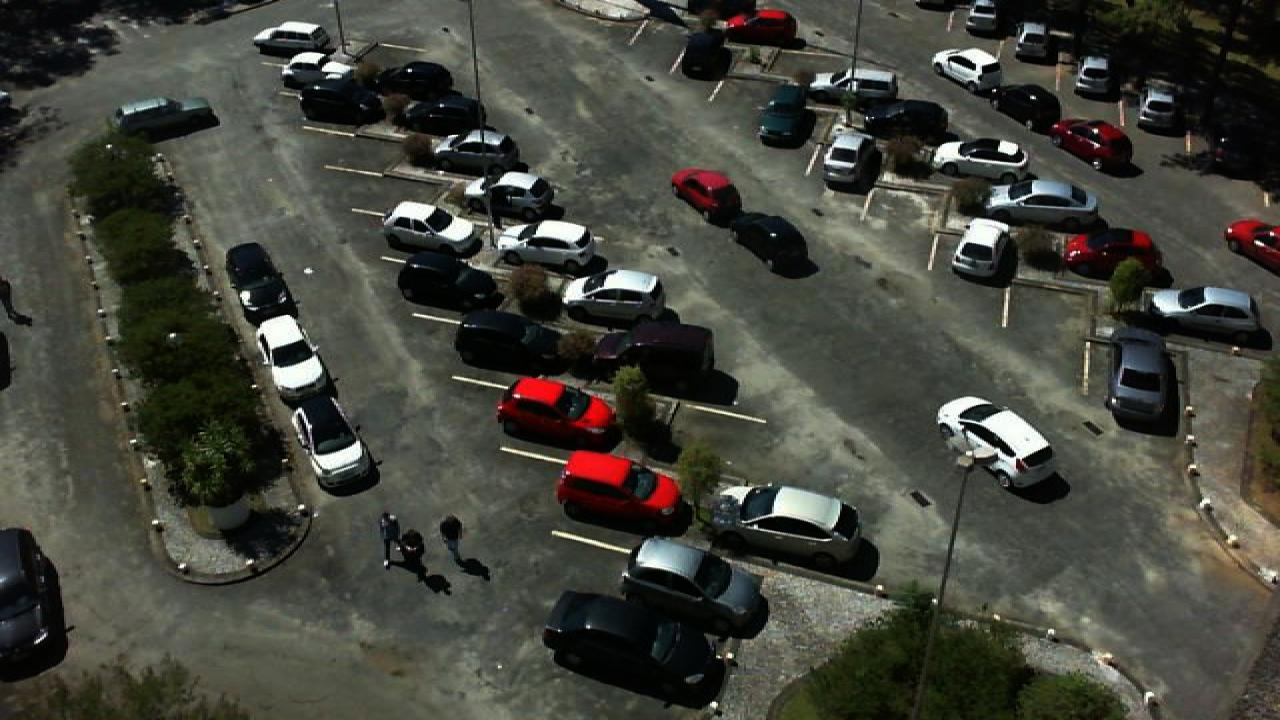Car: (540, 587, 724, 702), (618, 533, 770, 637), (702, 479, 868, 566), (934, 394, 1058, 492), (554, 448, 680, 526), (290, 390, 380, 495), (0, 528, 68, 662), (494, 376, 616, 450), (592, 317, 714, 386), (1144, 284, 1266, 343), (450, 306, 564, 369), (1102, 325, 1176, 422), (256, 312, 332, 402), (394, 250, 502, 309), (1058, 225, 1164, 282), (558, 269, 664, 324), (982, 177, 1098, 225), (380, 202, 482, 256), (498, 219, 596, 274), (224, 241, 294, 318), (110, 94, 218, 140), (730, 213, 812, 272), (1050, 117, 1134, 171), (930, 138, 1032, 182), (472, 171, 560, 221), (820, 125, 886, 190), (950, 216, 1014, 282), (430, 128, 518, 174), (866, 96, 956, 140), (402, 88, 482, 135), (756, 82, 814, 146), (300, 82, 384, 125), (930, 45, 1002, 95), (670, 166, 738, 218), (374, 60, 454, 99), (992, 81, 1060, 126), (252, 20, 336, 56), (1208, 121, 1260, 176), (1224, 217, 1280, 268), (724, 7, 798, 45), (282, 52, 364, 86), (684, 27, 732, 79), (1136, 76, 1182, 130), (1072, 52, 1116, 93), (1014, 20, 1054, 60), (962, 0, 1004, 36)
